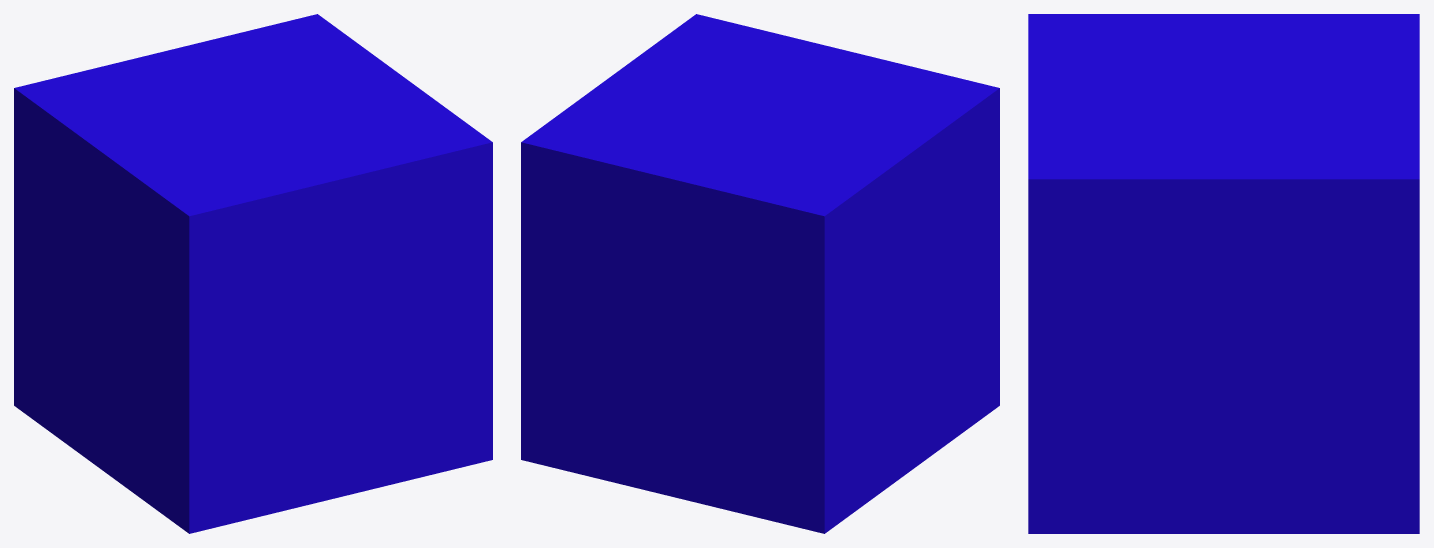
Rendered from CubeWhole.glb.
The picture shows the model from 3 angles, left to right: view 1: azimuth 30°, elevation 25°; view 2: azimuth 150°, elevation 25°; view 3: azimuth 270°, elevation 25°; orthographic projection. The views are drawn at different scales.
Visible parts, largest first — view 1: Cube; view 2: Cube; view 3: Cube.
Part boxes in pixels (x1=…): Cube: x1=14, y1=14, x2=492, y2=533; Cube: x1=521, y1=14, x2=999, y2=533; Cube: x1=1028, y1=14, x2=1419, y2=533.
Size of the model in its own units: 2 by 2 by 2.
